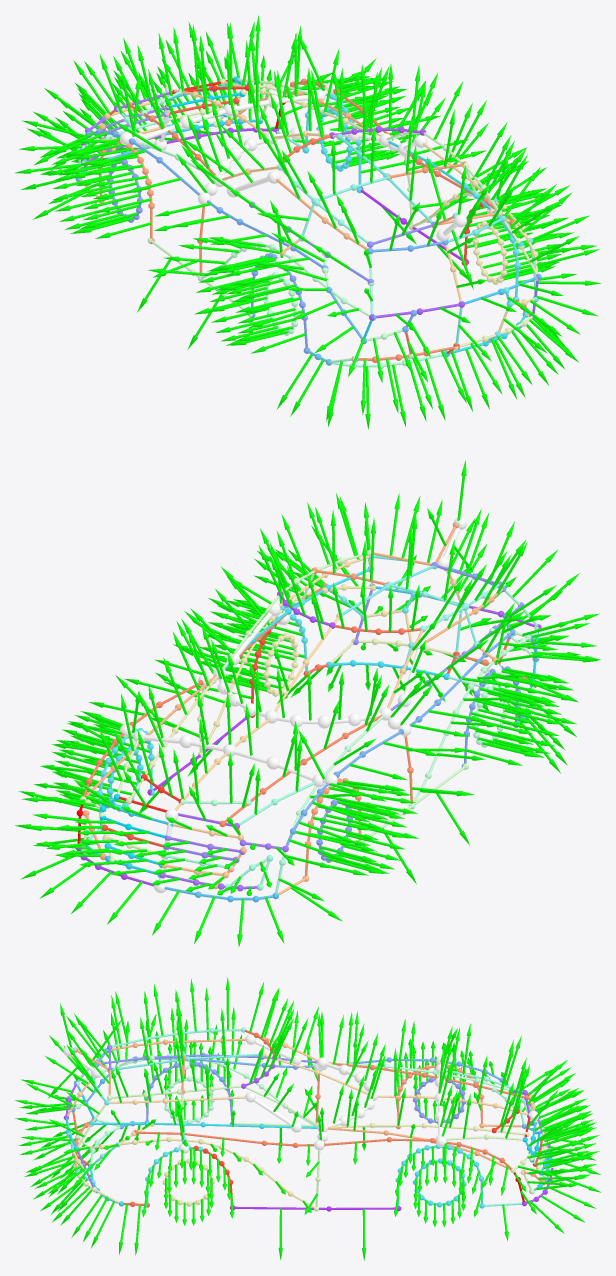
File: ils_car4.gltf
3 renders of one model, top to bottom at view 1: azimuth 30°, elevation 25°; view 2: azimuth 150°, elevation 25°; view 3: azimuth 270°, elevation 25°, orthographic. The views are drawn at different scales.
Bounding box in the file's own units: 0.5682 × 0.4153 × 1.09.
